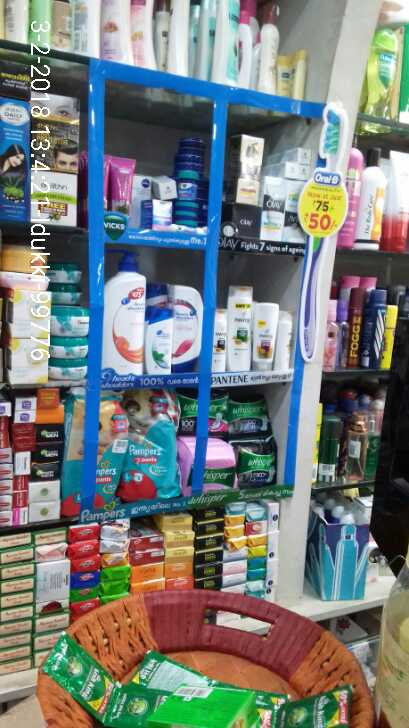vicks: (147, 171, 203, 227)
